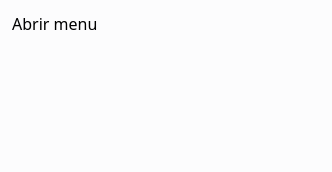
it: DropdownMenu › executa a ação selecionada e fecha o menu
The image size is (332, 172).
Click the button "Abrir menu": (55, 24) top-left (12, 12), bottom-right (97, 36)
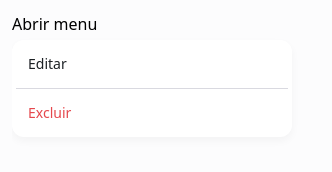
Click the menu item "Editar": (47, 64) top-left (28, 54), bottom-right (67, 73)
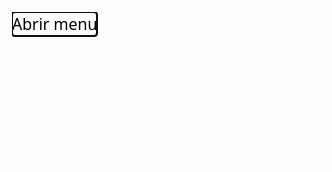
Expected: the menu is gone
